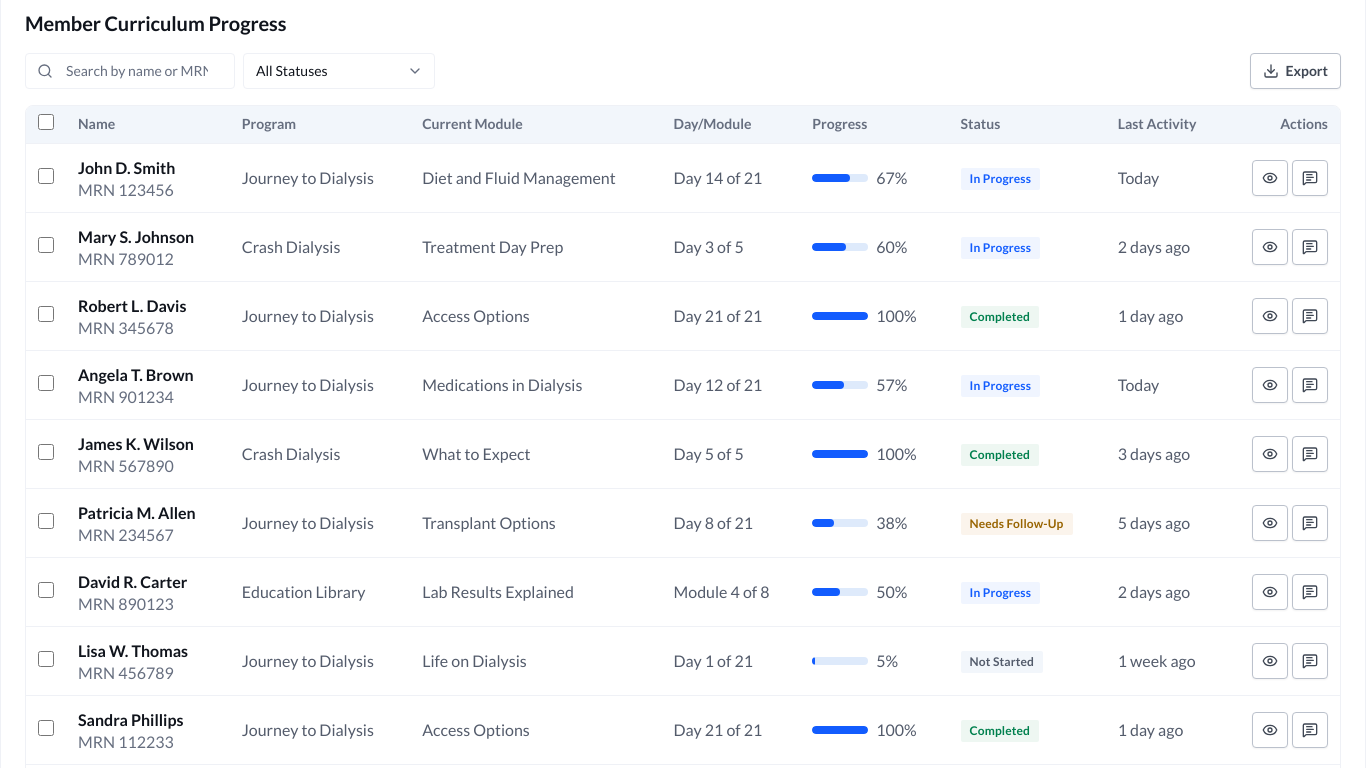
Scenario: a member's progress popup › opens from a row, links to the Member page, and closes
The image size is (1366, 768).
(page scrolled)
Click the button named "View Angela T. Brown" at (1270, 385), box 1252,367 -> 1288,403
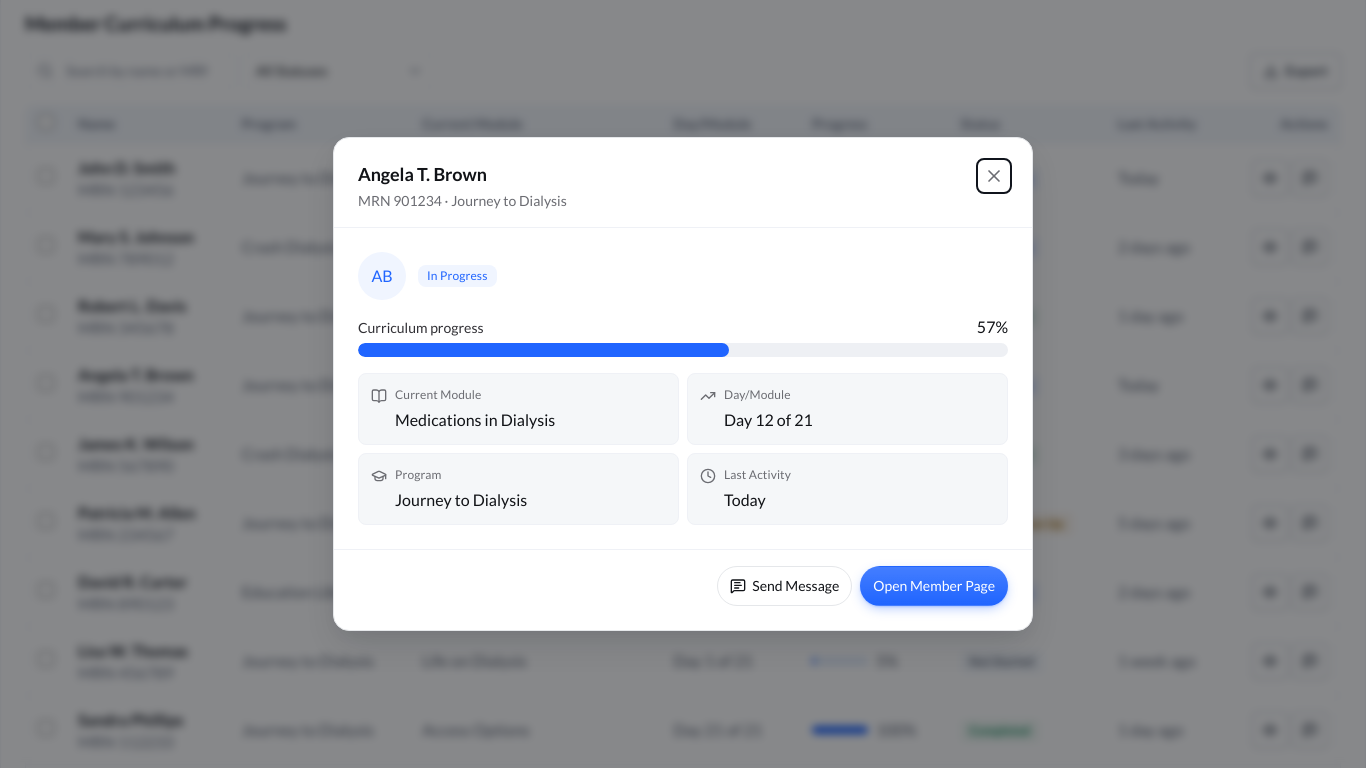
Expected: the dialog "Angela T. Brown" shows "Day 12 of 21", 724,410 -> 813,429
Press Escape
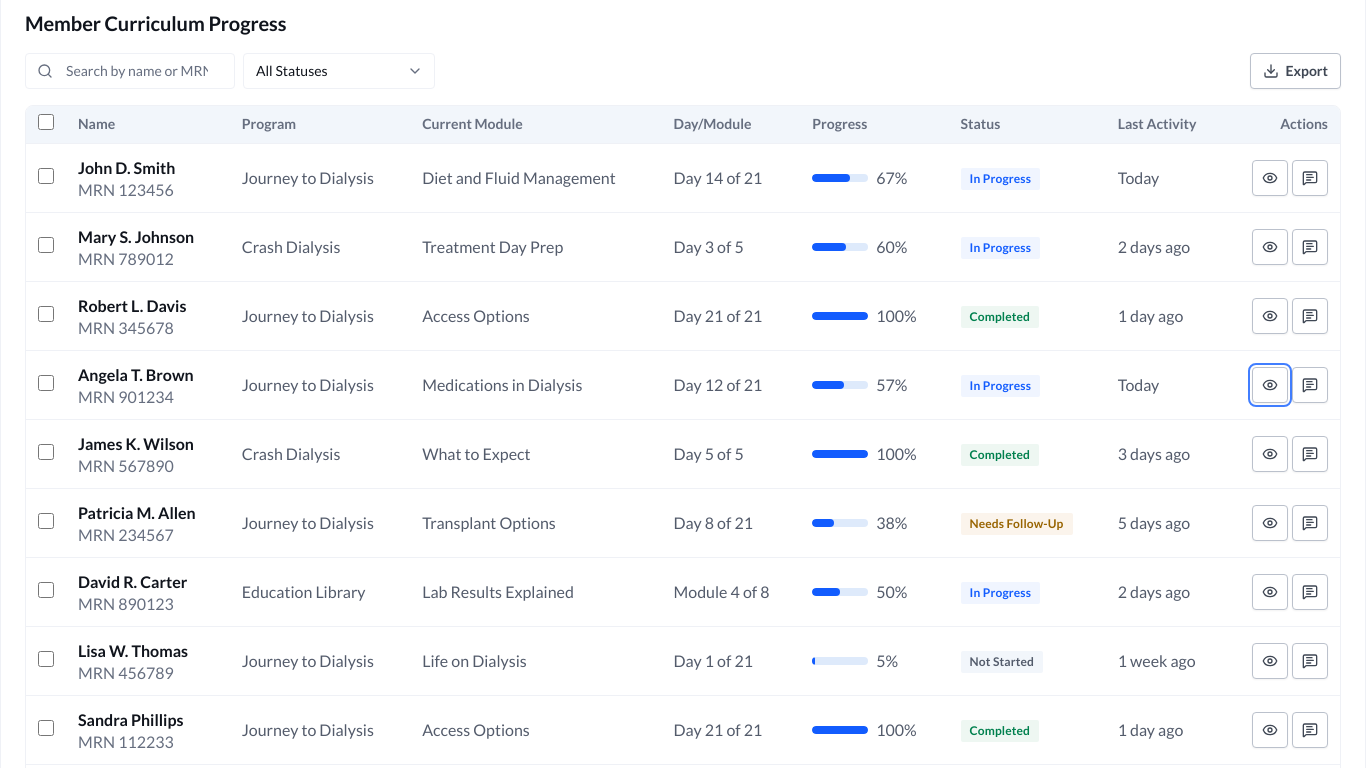
Expected: the dialog is gone
